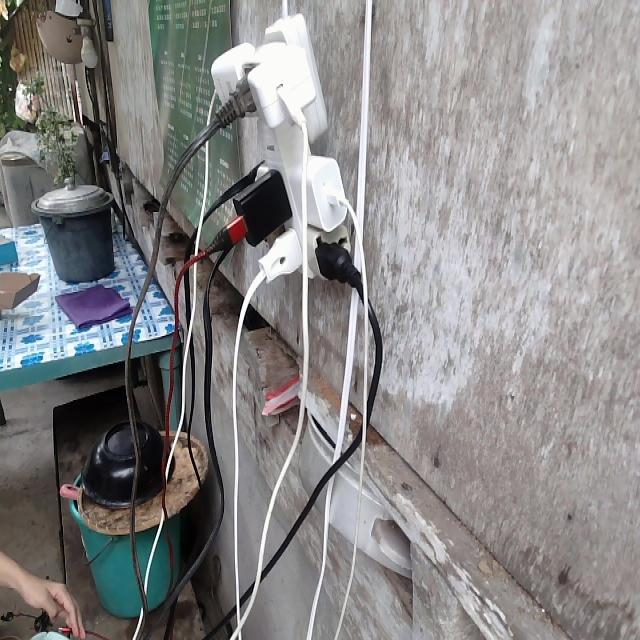-: (193, 11, 366, 325)
